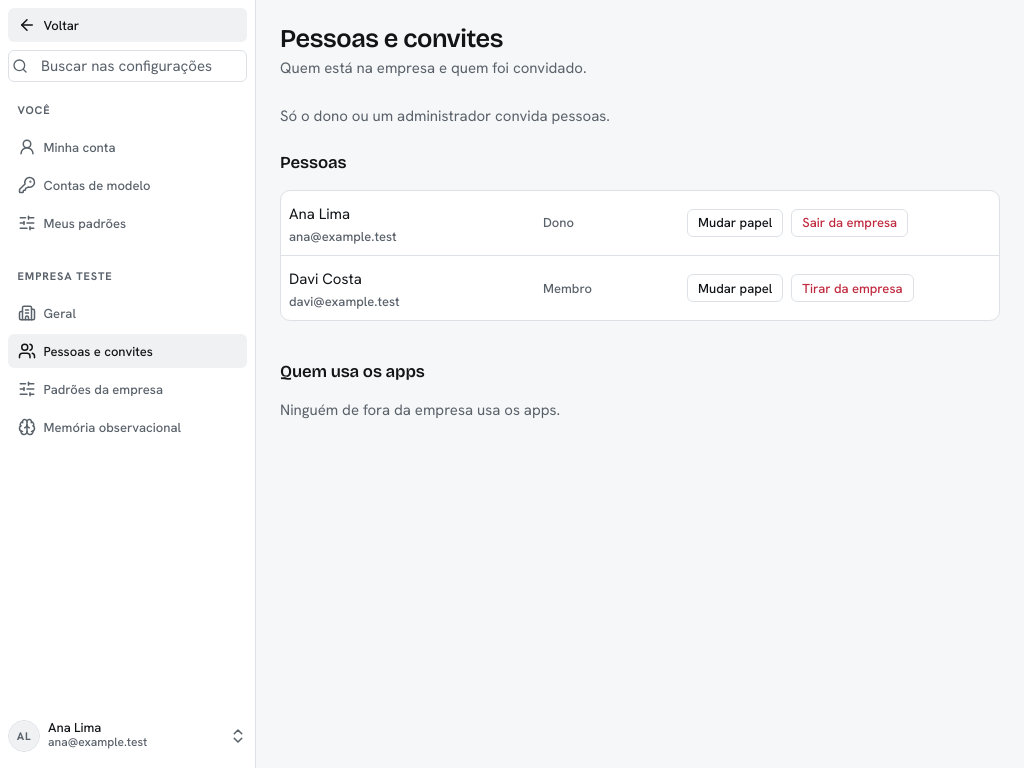
Scenario: tirar: a confirmação diz que a conta continua e quantos convites cancelam; confirmar manda o DELETE
Click the button with aria-label "Tirar da empresa: Davi Costa" at (852, 288), box [791,274,914,302]
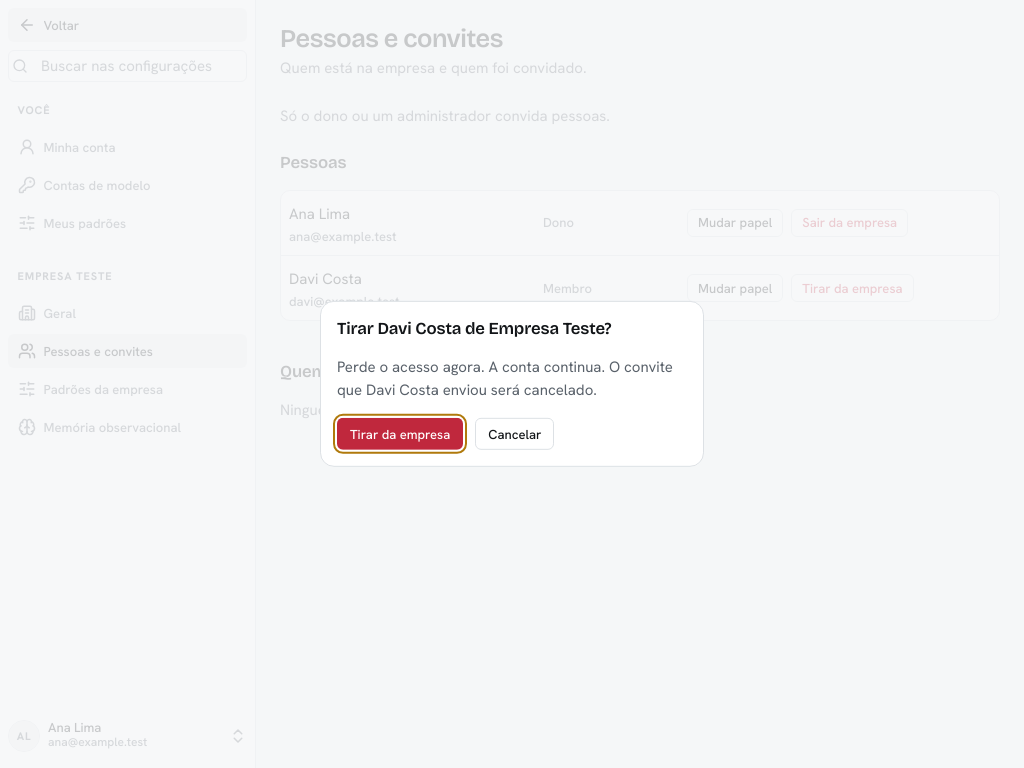
Now the dialog shows "Tirar Davi Costa de Empresa Teste?", box [337,318,611,339]
Now the dialog shows "Perde o acesso agora. A conta continua. O convite que Davi Costa enviou será cancelado.", box [337,357,673,400]
Click the button "Tirar da empresa" at (400, 434), box [337,418,463,450]
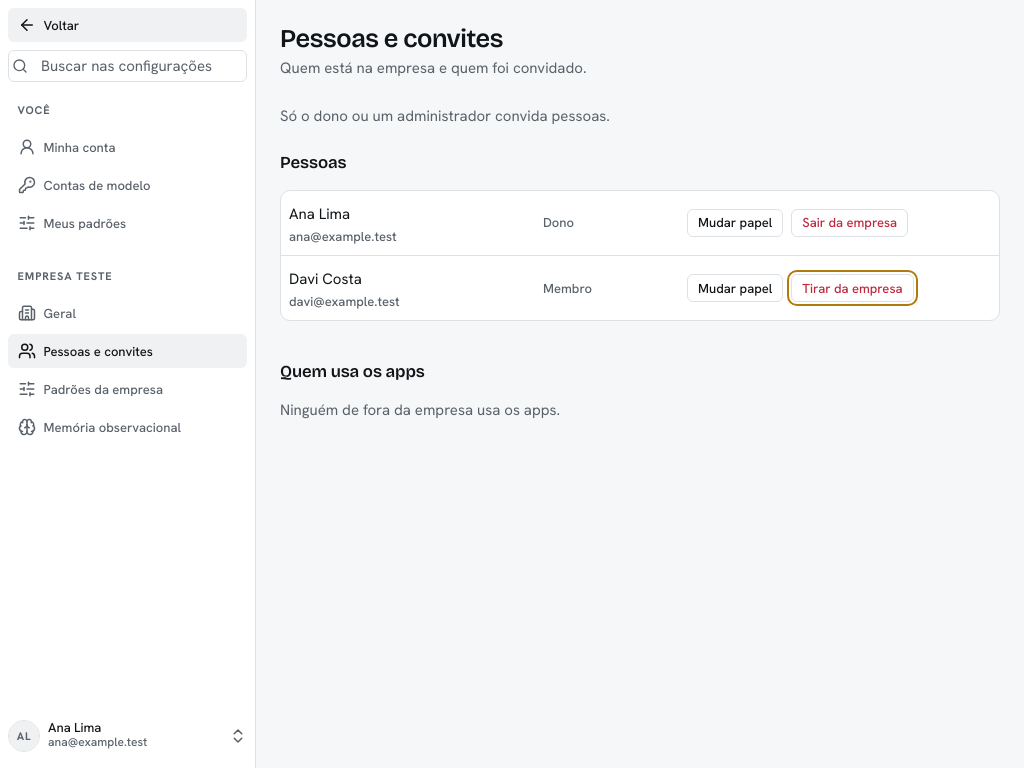
Now the dialog is gone
